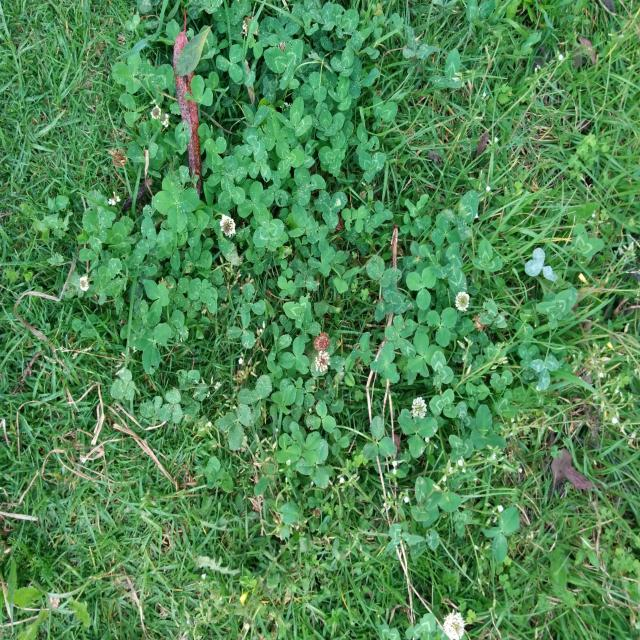Four Leaf Clover: (153, 176, 199, 233)
